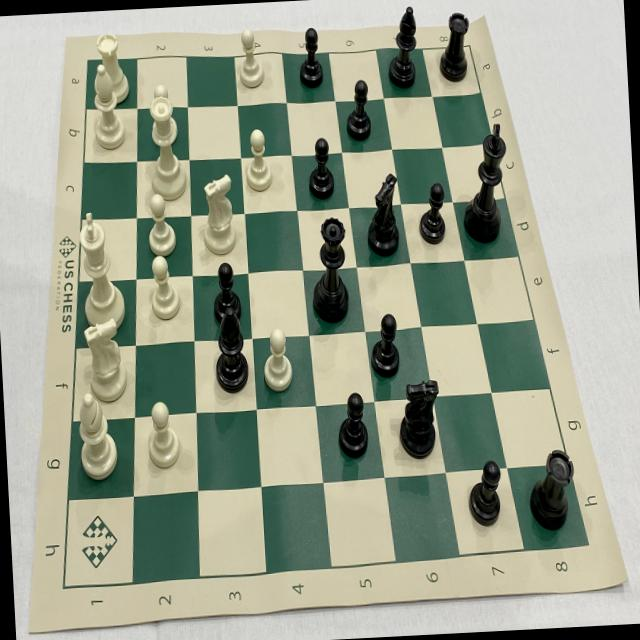black-bishop: (211, 304, 252, 394), (383, 0, 422, 90)
black-king: (458, 120, 514, 244)
black-knight: (397, 376, 444, 462), (364, 172, 402, 260)
black-pawn: (462, 459, 506, 531), (332, 390, 371, 463), (367, 310, 402, 382), (415, 181, 450, 247), (211, 259, 244, 329), (304, 134, 337, 202), (342, 77, 373, 142), (298, 24, 325, 92)
black-queen: (307, 211, 353, 325)
black-rook: (524, 445, 579, 534), (435, 9, 473, 85)
white-bishop: (73, 391, 121, 482), (88, 62, 127, 153)
white-king: (75, 208, 126, 335)
white-knight: (80, 318, 129, 404), (198, 174, 240, 258)
white-pawn: (143, 398, 183, 474), (146, 254, 182, 322), (262, 324, 296, 394), (142, 190, 178, 256), (242, 126, 274, 194), (236, 26, 266, 91), (148, 84, 179, 144)
white-queen: (140, 95, 192, 204)
white-rook: (94, 28, 131, 106)
